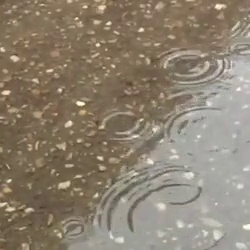drop: (165, 105, 236, 153), (159, 47, 224, 85), (151, 165, 201, 206), (103, 109, 146, 140), (60, 219, 85, 238), (229, 40, 250, 60)
